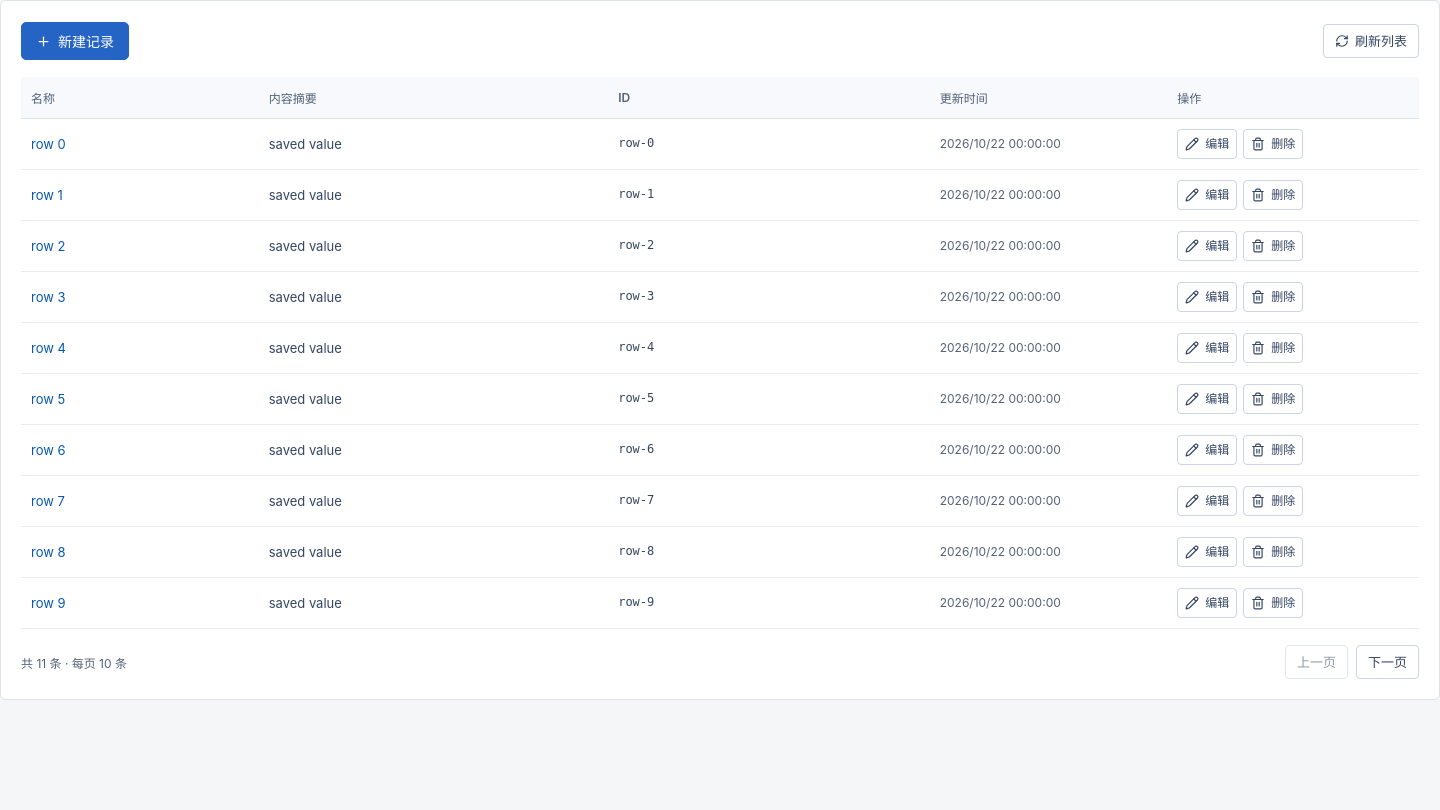
Test: record workspace interruptions › falls back from a deleted last page without losing the server total
Expected: the text "共 11 条 · 每页 10 条" is shown, x1=21 y1=654 x2=127 y2=671
Click the button "下一页": (1388,662) x1=1356 y1=645 x2=1419 y2=679
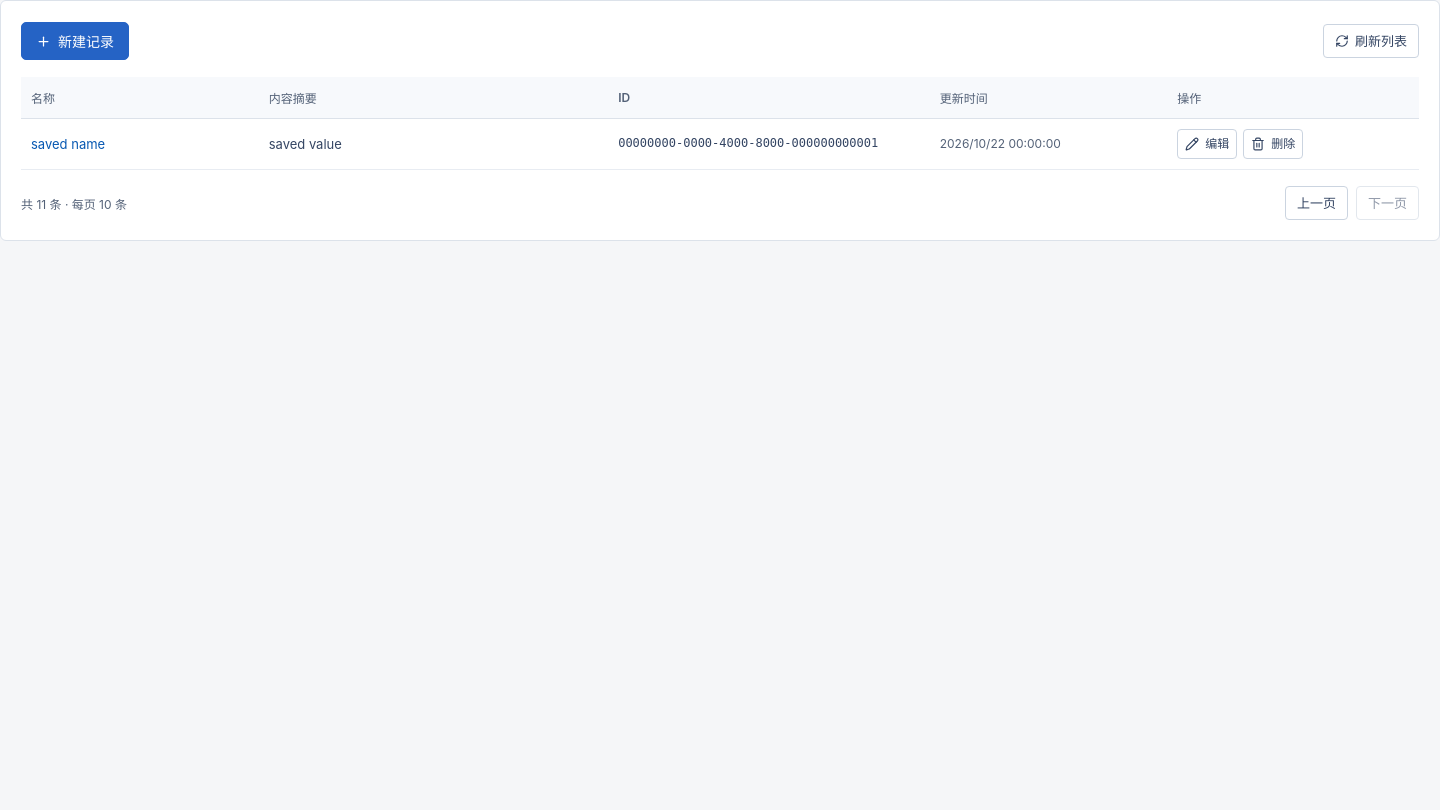
Click the button with aria-label "删除 saved name": (1273,144) x1=1243 y1=129 x2=1303 y2=159
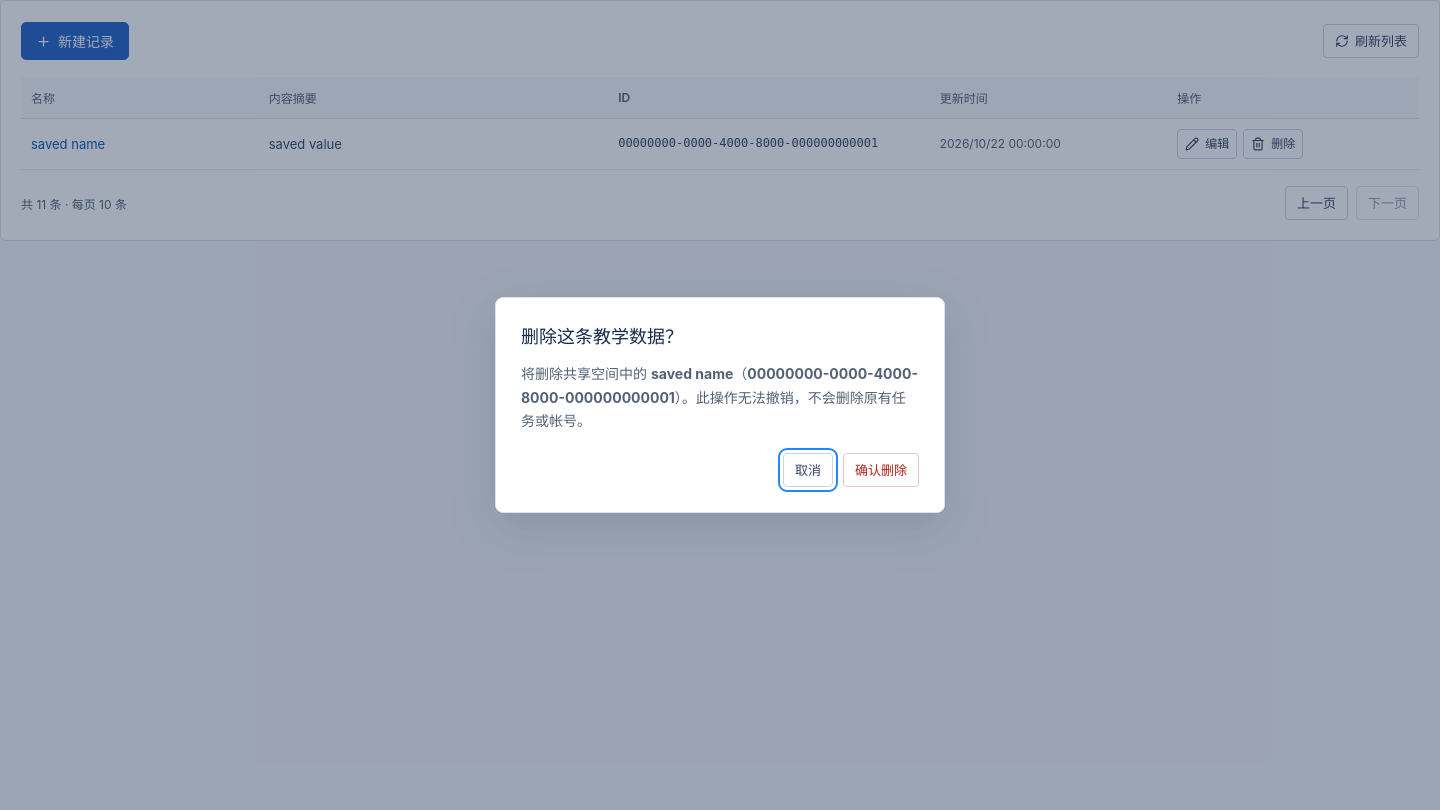
Now the dialog shows "00000000-0000-4000-8000-000000000001", box x1=521 y1=365 x2=918 y2=406
Click the button "确认删除": (881,470) x1=843 y1=453 x2=919 y2=487
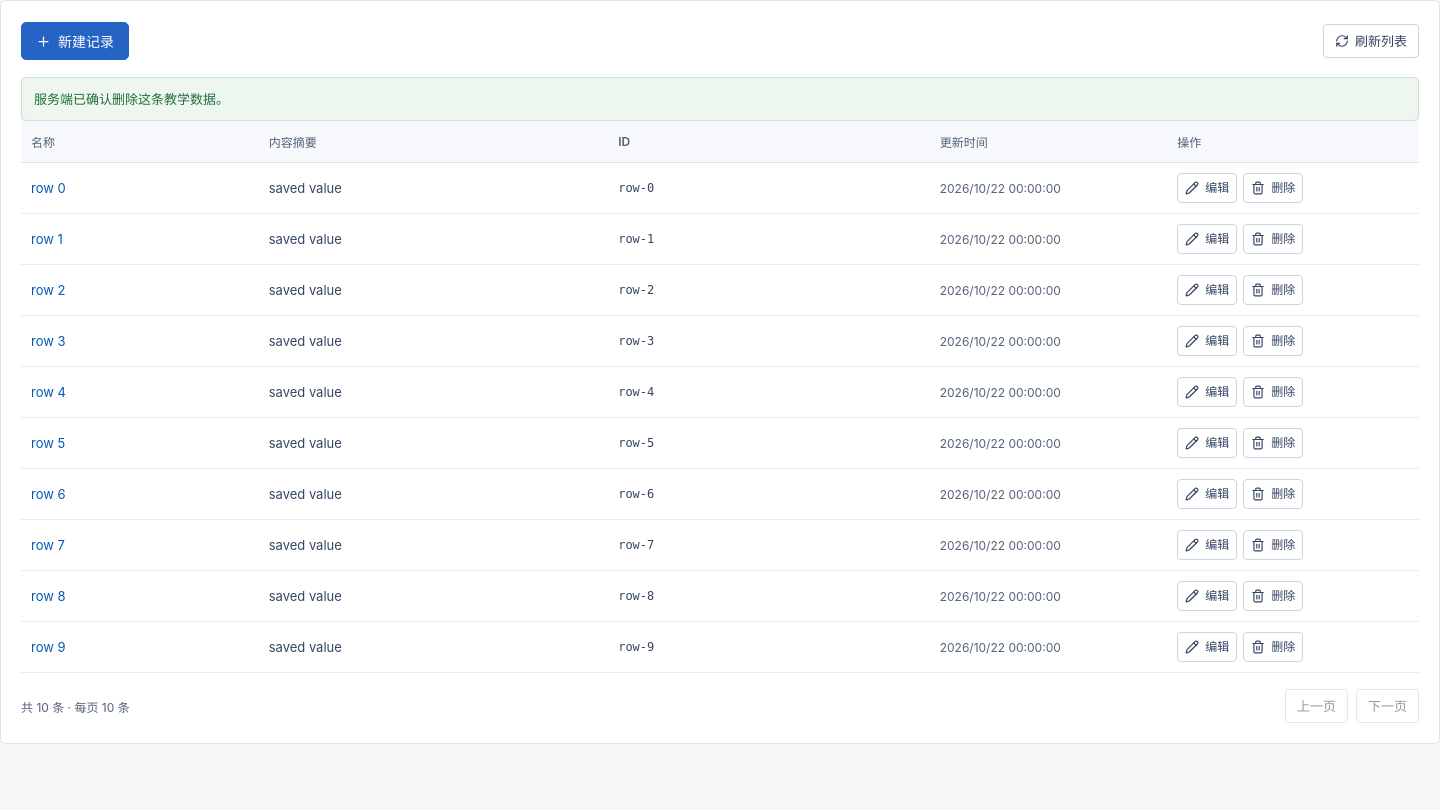
Now the button "下一页" is disabled, box x1=1356 y1=689 x2=1419 y2=723
Now the text "共 10 条 · 每页 10 条" is shown, box x1=21 y1=698 x2=130 y2=715
Now the button "上一页" is disabled, box x1=1285 y1=689 x2=1348 y2=723
